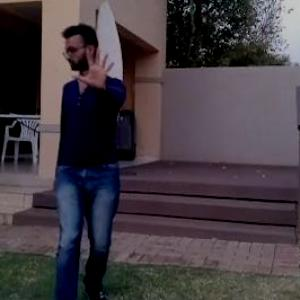follow_hand: (68, 42, 117, 94)
